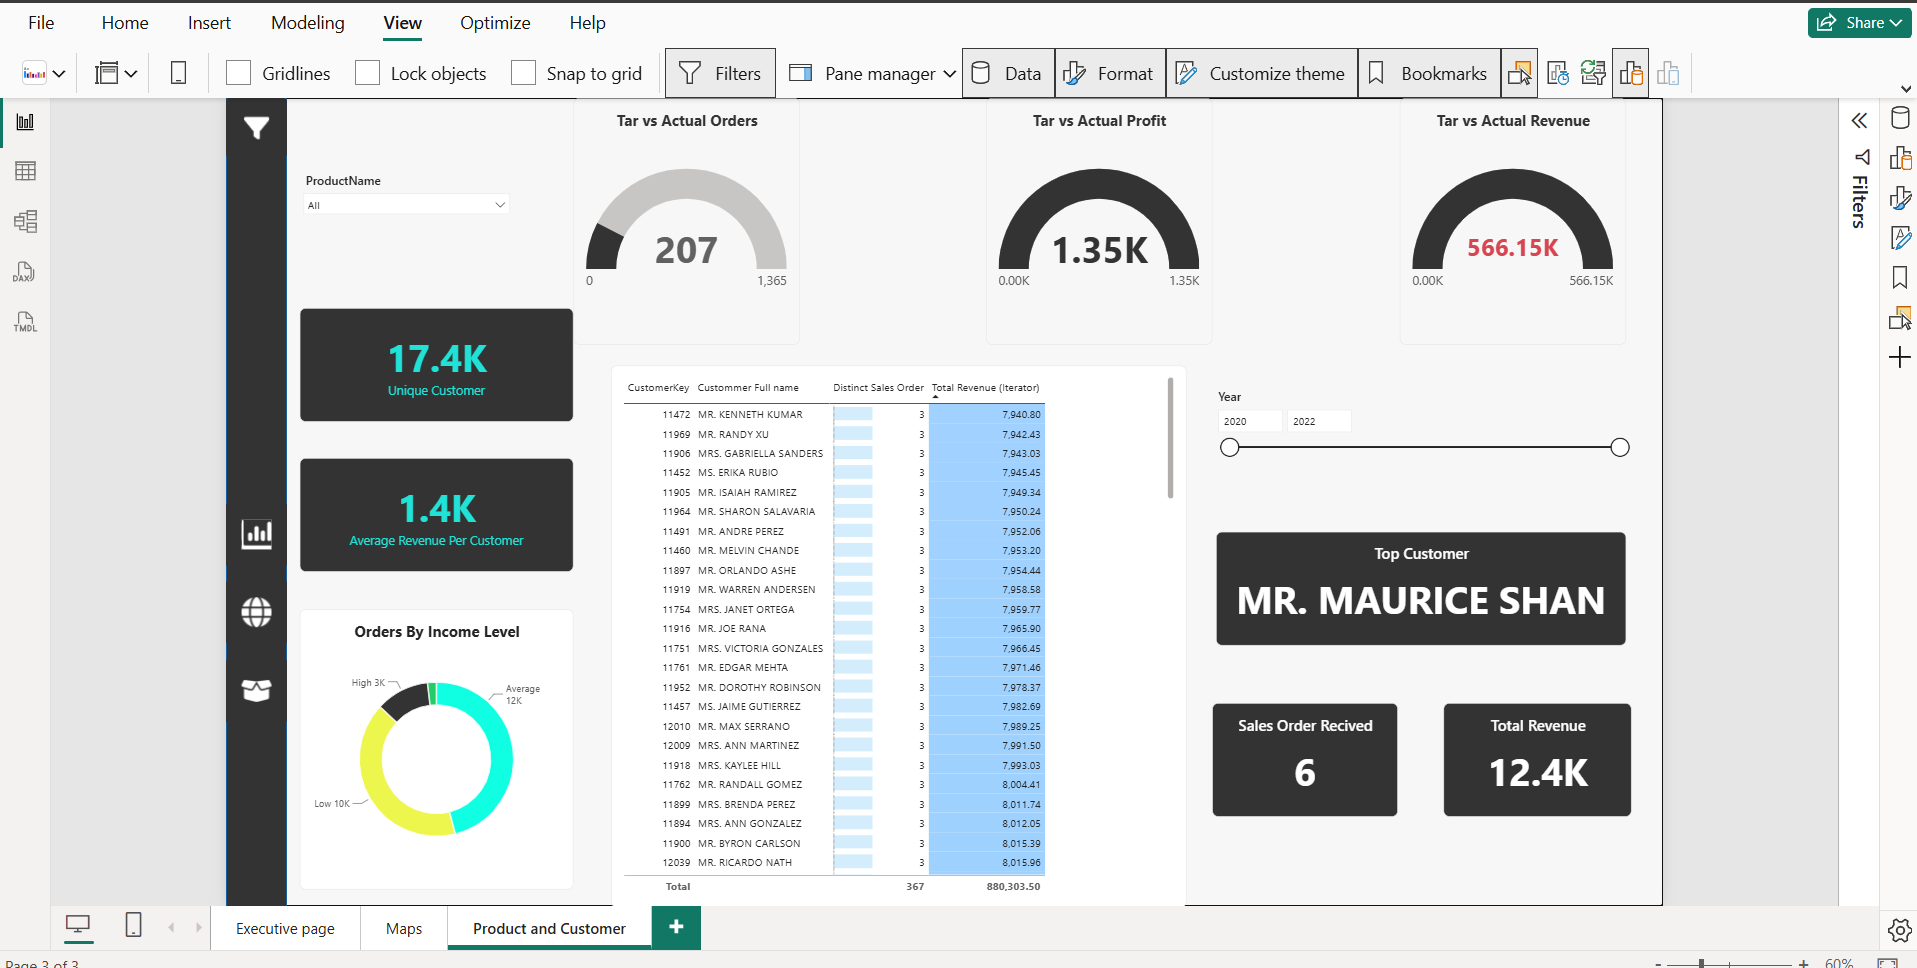

The dashboard page shown, as its layout file describes it:
{"tool":"powerbi","page":{"name":"Product and Customer","canvas":[1920,1080],"ordinal":2},"visuals":[{"type":"shape","title":"Background","box":[0,0,81.4,1080.4],"z":0},{"type":"slicer","fields":{"Values":["Product Lookup.ProductName"]},"box":[97.7,97.7,285.9,133.9],"z":1000},{"type":"gauge","title":"Tar vs Actual Orders","fields":{"MaxValue":["Measure Table.Target Orders"],"Y":["Measure Table.Distinct Sales Order"]},"box":[463.6,0,302.2,329.4],"z":2000},{"type":"gauge","title":"Tar vs Actual Revenue","fields":{"MaxValue":["Measure Table.Target Revenue"],"Y":["Measure Table.Target Revenue"]},"box":[1567.5,0,302.2,329.4],"z":3000},{"type":"gauge","title":"Tar vs Actual Profit","fields":{"MaxValue":["Measure Table.Target Profit"],"Y":["Measure Table.Target Profit"]},"box":[1015.6,0,302.2,329.4],"z":4000},{"type":"card","fields":{"Values":["Measure Table.Unique Customer"]},"box":[97.7,280.5,365.6,152],"z":5000},{"type":"card","fields":{"Values":["Measure Table.Average Revenue Per Customer"]},"box":[97.7,481.4,365.6,152],"z":6000},{"type":"donutChart","title":"Orders By Income Level","fields":{"Category":["Customer Lookup.Income Level"],"Y":["Measure Table.Distinct Sales Order"]},"box":[97.7,682.2,365.6,374.6],"z":7000},{"type":"tableEx","title":"Orders","fields":{"Values":["Customer Lookup.CustomerKey","Customer Lookup.Custommer Full name","Measure Table.Distinct Sales Order","Measure Table.Total Revenue (Iterator)"]},"box":[513.9,356.5,769.1,723.9],"z":8000},{"type":"slicer","fields":{"Values":["Calendar Lookup.Date.Variation.Date Hierarchy.Year"]},"box":[1317.4,387.3,561,152],"z":9000},{"type":"card","title":"Top Customer","fields":{"Values":["Min(Customer Lookup.Custommer Full name)"]},"box":[1322.9,579.1,548.3,152],"z":10000},{"type":"card","title":"Sales Order Recived","fields":{"Values":["Measure Table.Distinct Sales Order"]},"box":[1317.4,808.9,247.9,152],"z":11000},{"type":"card","title":"Total Revenue ","fields":{"Values":["Measure Table.Total Revenue (Iterator)"]},"box":[1626.9,808.9,251.5,152],"z":12000},{"type":"actionButton","box":[0,539.3,81.4,88],"z":12001},{"type":"actionButton","box":[0,643.3,81.4,88],"z":12002},{"type":"actionButton","box":[0,747.4,81.4,88],"z":12003},{"type":"actionButton","box":[0,0,81.4,79.6],"z":12004}]}

Visuals, with their boxes on the page's 1920x1080 design canvas (x1, y1, x2, y2). These are canvas units, not pixel positions in the 1917x968 screenshot, which may show the page scaled, cropped or inside an application window:
"Background" shape: [left=0, top=0, right=81, bottom=1080]
slicer - Product Lookup.ProductName: [left=98, top=98, right=384, bottom=232]
"Tar vs Actual Orders" gauge: [left=464, top=0, right=766, bottom=329]
"Tar vs Actual Revenue" gauge: [left=1568, top=0, right=1870, bottom=329]
"Tar vs Actual Profit" gauge: [left=1016, top=0, right=1318, bottom=329]
card - Measure Table.Unique Customer: [left=98, top=280, right=463, bottom=432]
card - Measure Table.Average Revenue Per Customer: [left=98, top=481, right=463, bottom=633]
"Orders By Income Level" donutChart: [left=98, top=682, right=463, bottom=1057]
"Orders" tableEx: [left=514, top=356, right=1283, bottom=1080]
slicer - Calendar Lookup.Date.Variation.Date Hierarchy.Year: [left=1317, top=387, right=1878, bottom=539]
"Top Customer" card: [left=1323, top=579, right=1871, bottom=731]
"Sales Order Recived" card: [left=1317, top=809, right=1565, bottom=961]
"Total Revenue " card: [left=1627, top=809, right=1878, bottom=961]
actionButton: [left=0, top=539, right=81, bottom=627]
actionButton: [left=0, top=643, right=81, bottom=731]
actionButton: [left=0, top=747, right=81, bottom=835]
actionButton: [left=0, top=0, right=81, bottom=80]
